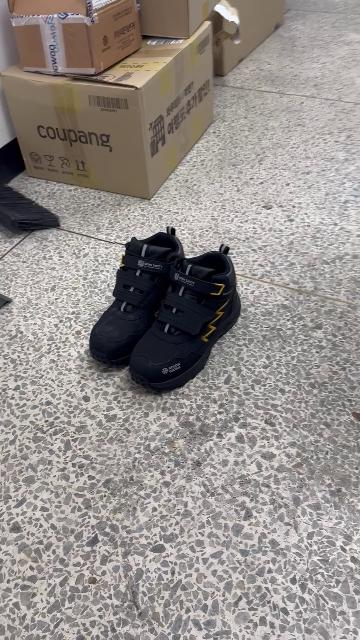shoe_worn: (126, 246, 247, 397), (86, 223, 186, 373)
